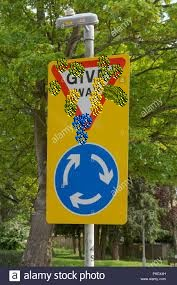giveway: (47, 56, 129, 134), (59, 66, 113, 122), (77, 57, 116, 125)
